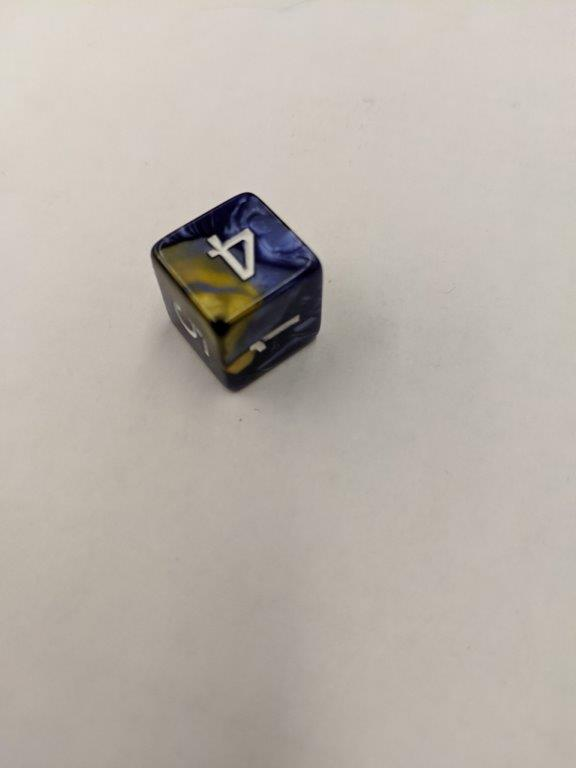d6-4: (149, 190, 324, 395)
